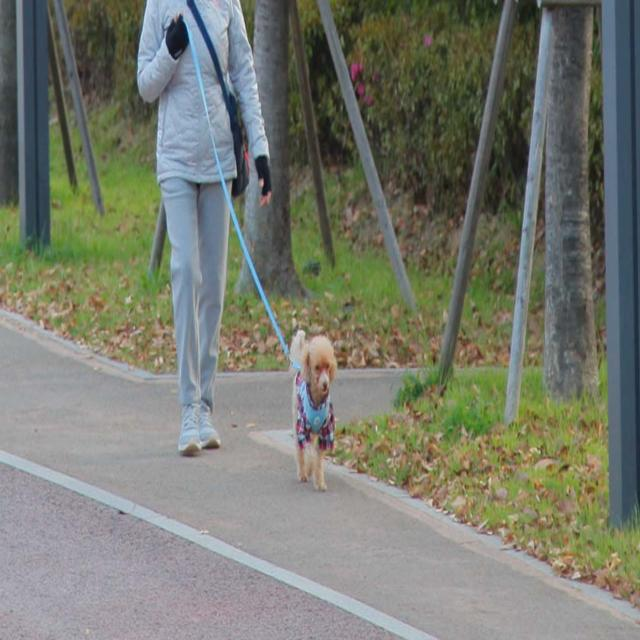Leashed_Dog: (157, 10, 338, 492)
